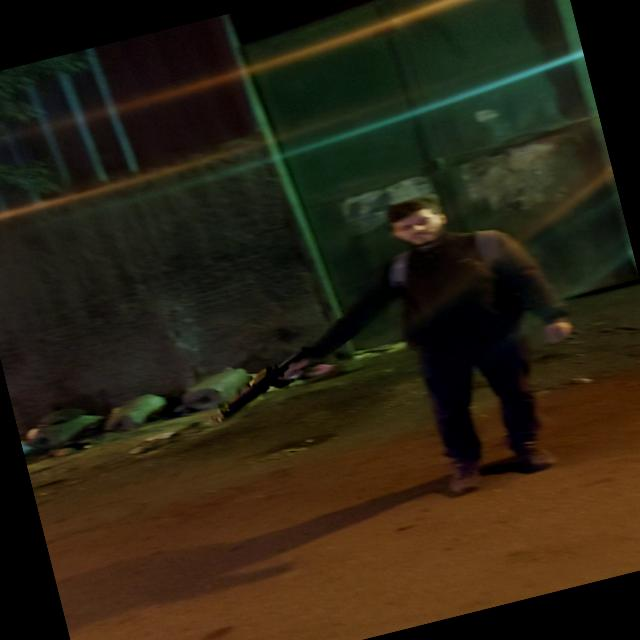long weapon: (194, 322, 358, 458)
